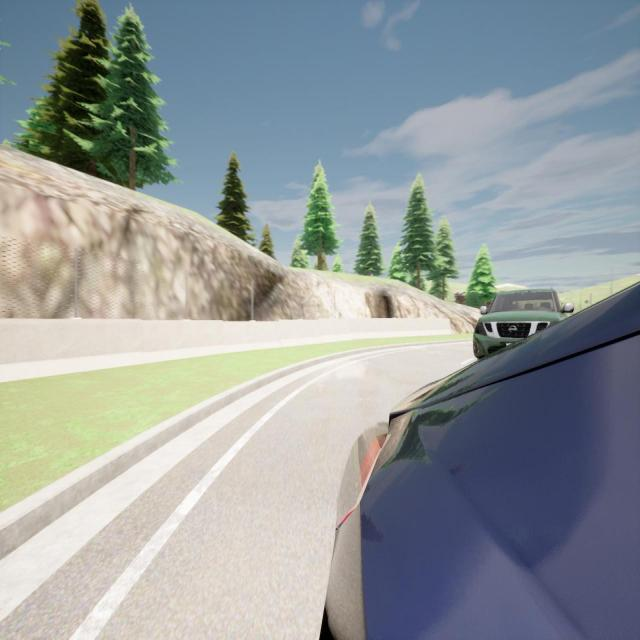Vehicle: (319, 283, 639, 638), (472, 288, 574, 359)
